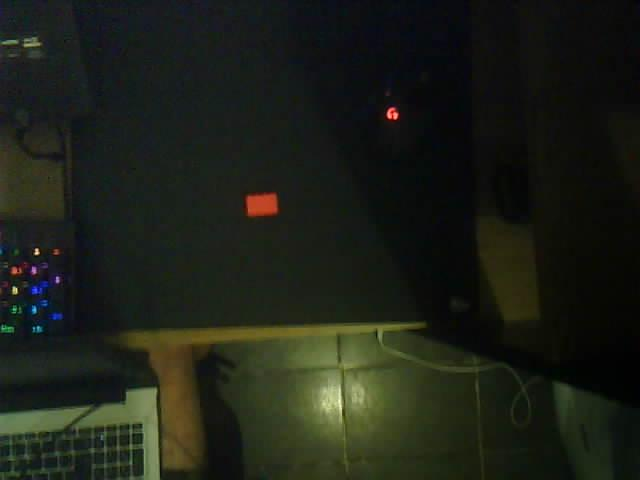lego: (243, 191, 280, 218)
